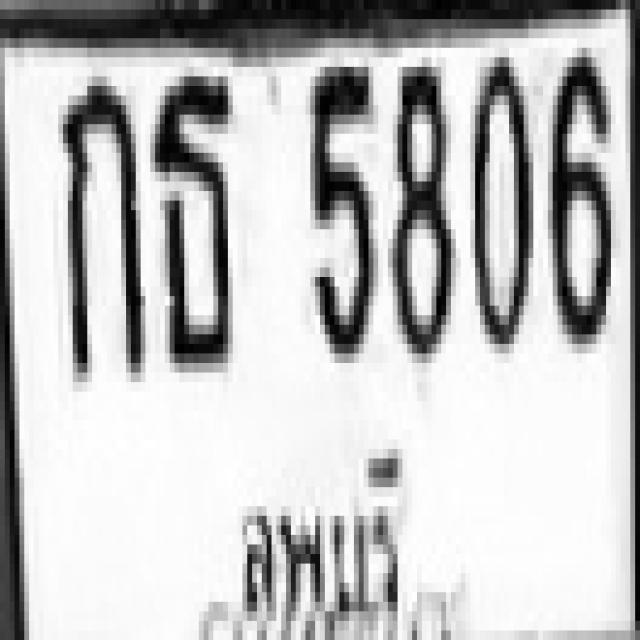0: (471, 48, 528, 344)
10GorGai: (58, 76, 146, 382)
33ThorThong: (150, 67, 234, 374)
5: (306, 58, 368, 354)
6: (548, 48, 606, 334)
8: (388, 58, 451, 354)
LopBuri: (223, 440, 409, 635)
